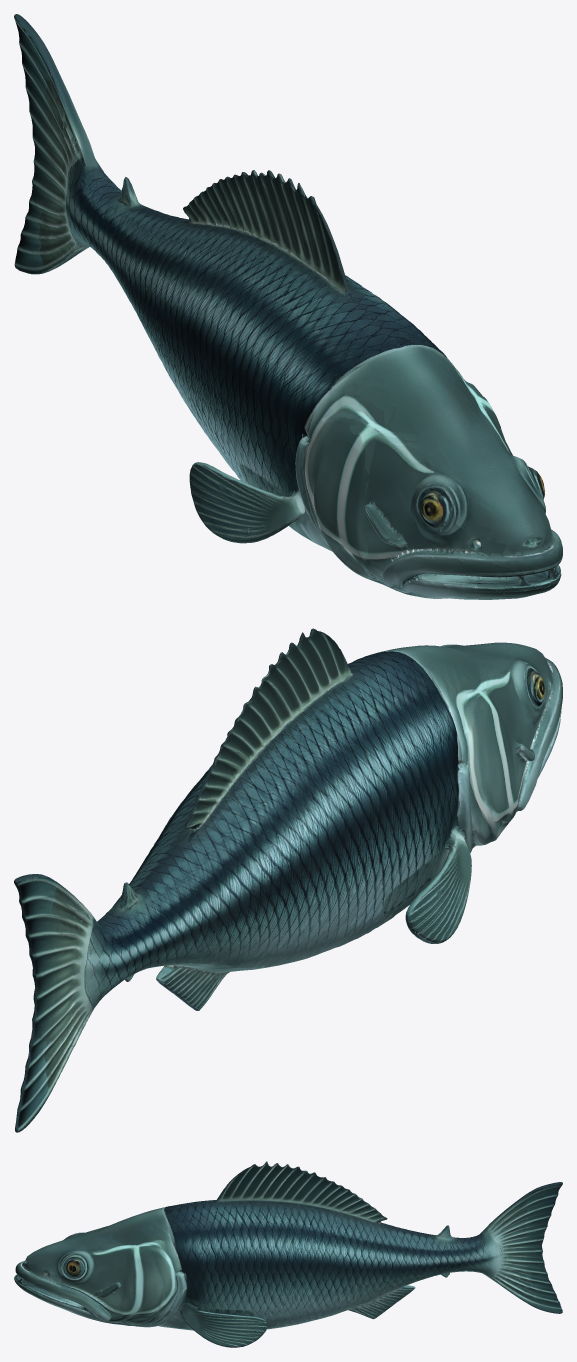
Rendered from fish_drum_croaker.glb.
3 renders of one model, top to bottom at view 1: azimuth 30°, elevation 25°; view 2: azimuth 150°, elevation 25°; view 3: azimuth 270°, elevation 25°, orthographic. The views are drawn at different scales.
Size of the model in its own units: 0.4926 by 0.6335 by 1.9.
1 material, 1 textured.
